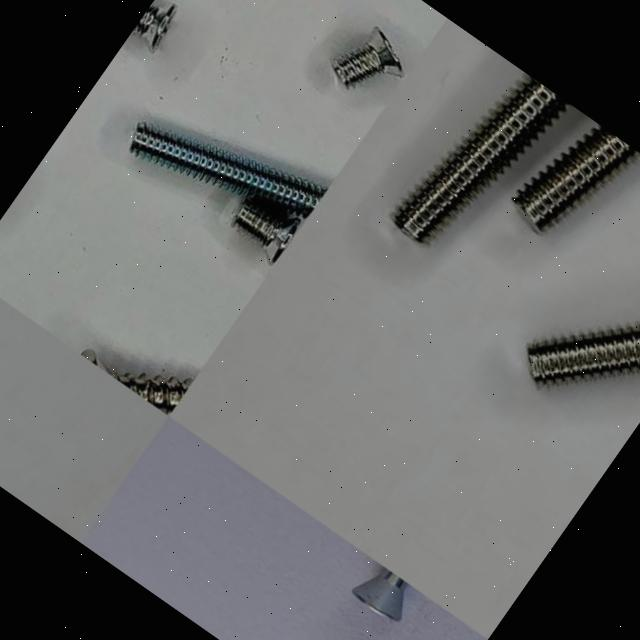Screw: (393, 75, 570, 242), (392, 75, 570, 241), (130, 123, 327, 220), (513, 125, 639, 230), (82, 351, 192, 416), (528, 325, 640, 385), (232, 202, 300, 267), (333, 27, 404, 88), (352, 568, 406, 621), (132, 3, 177, 53)
